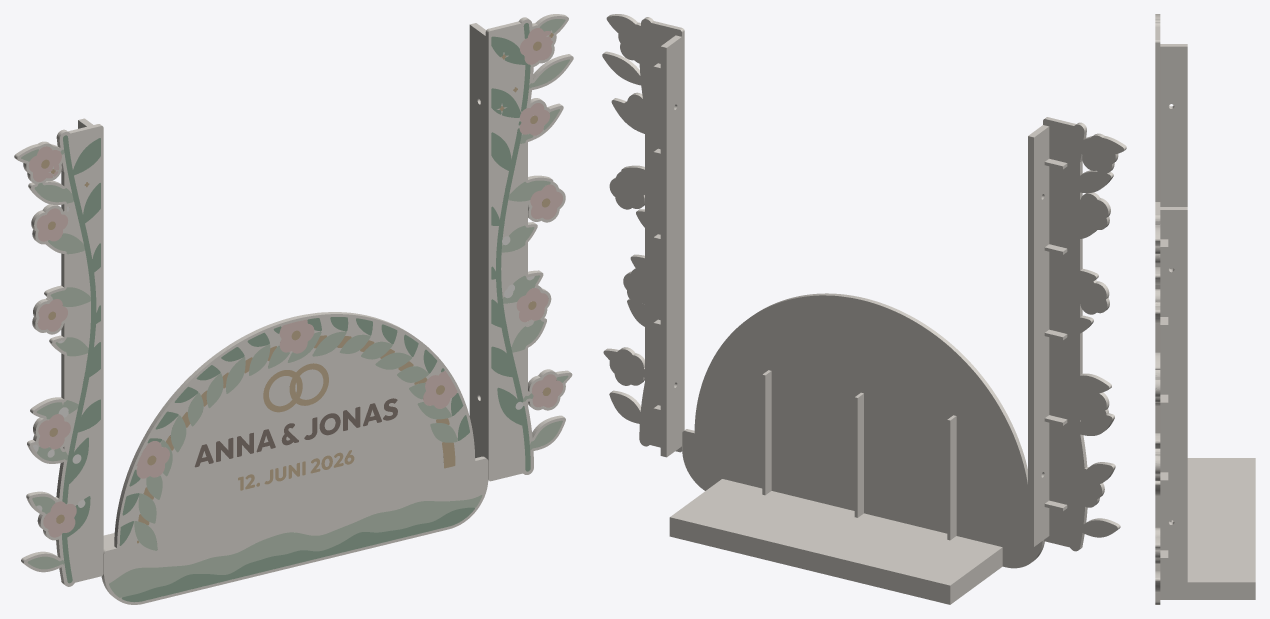
Rendered from parts.glb.
The picture shows the model from 3 angles, left to right: view 1: azimuth 30°, elevation 25°; view 2: azimuth 150°, elevation 25°; view 3: azimuth 270°, elevation 25°; orthographic projection. The views are drawn at different scales.
Parts seen in each view (by area): view 1: topper__base, wing_right__base, wing_left__base, topper__sage, topper__leaf, wing_right__leaf, wing_left__leaf, wing_left__blush, wing_right__blush, topper__gold, wing_right__sage, wing_left__sage (+2 smaller); view 2: topper__base, wing_left__base, wing_right__base; view 3: wing_right__base, topper__base, wing_left__base.
Part boxes in pixels (x1,y1,x2,y2): topper__base: [101, 312, 488, 604]; wing_right__base: [469, 14, 573, 481]; wing_left__base: [14, 118, 103, 586]; topper__sage: [109, 331, 482, 597]; topper__leaf: [119, 317, 474, 602]; wing_right__leaf: [491, 23, 530, 471]; wing_left__leaf: [62, 135, 100, 583]; wing_left__blush: [28, 146, 76, 537]; wing_right__blush: [516, 28, 563, 407]; topper__gold: [137, 330, 455, 543]; wing_right__sage: [501, 19, 569, 449]; wing_left__sage: [21, 149, 90, 569]; topper__base: [669, 293, 1044, 604]; wing_left__base: [1028, 117, 1126, 551]; wing_right__base: [602, 14, 684, 457]; wing_right__base: [1155, 202, 1187, 604]; topper__base: [1160, 458, 1255, 599]; wing_left__base: [1155, 14, 1187, 269].
Size of the model in its own units: 339 by 286 by 62.
